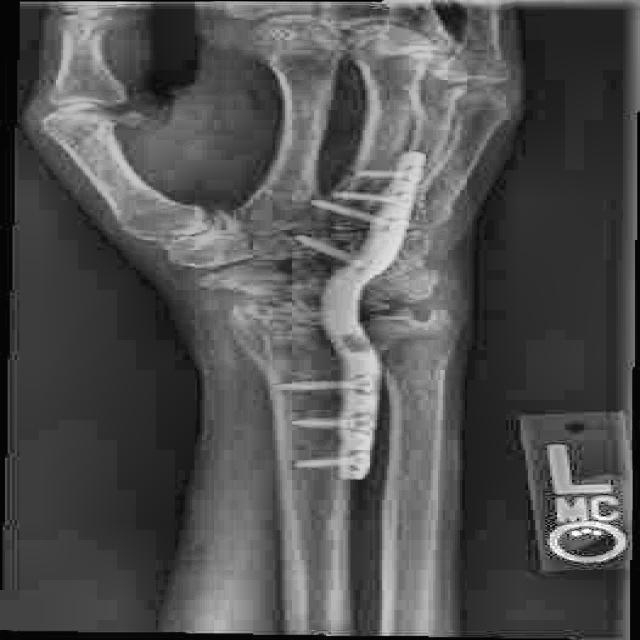wrist positive: (188, 281, 453, 362), (357, 225, 465, 313)
